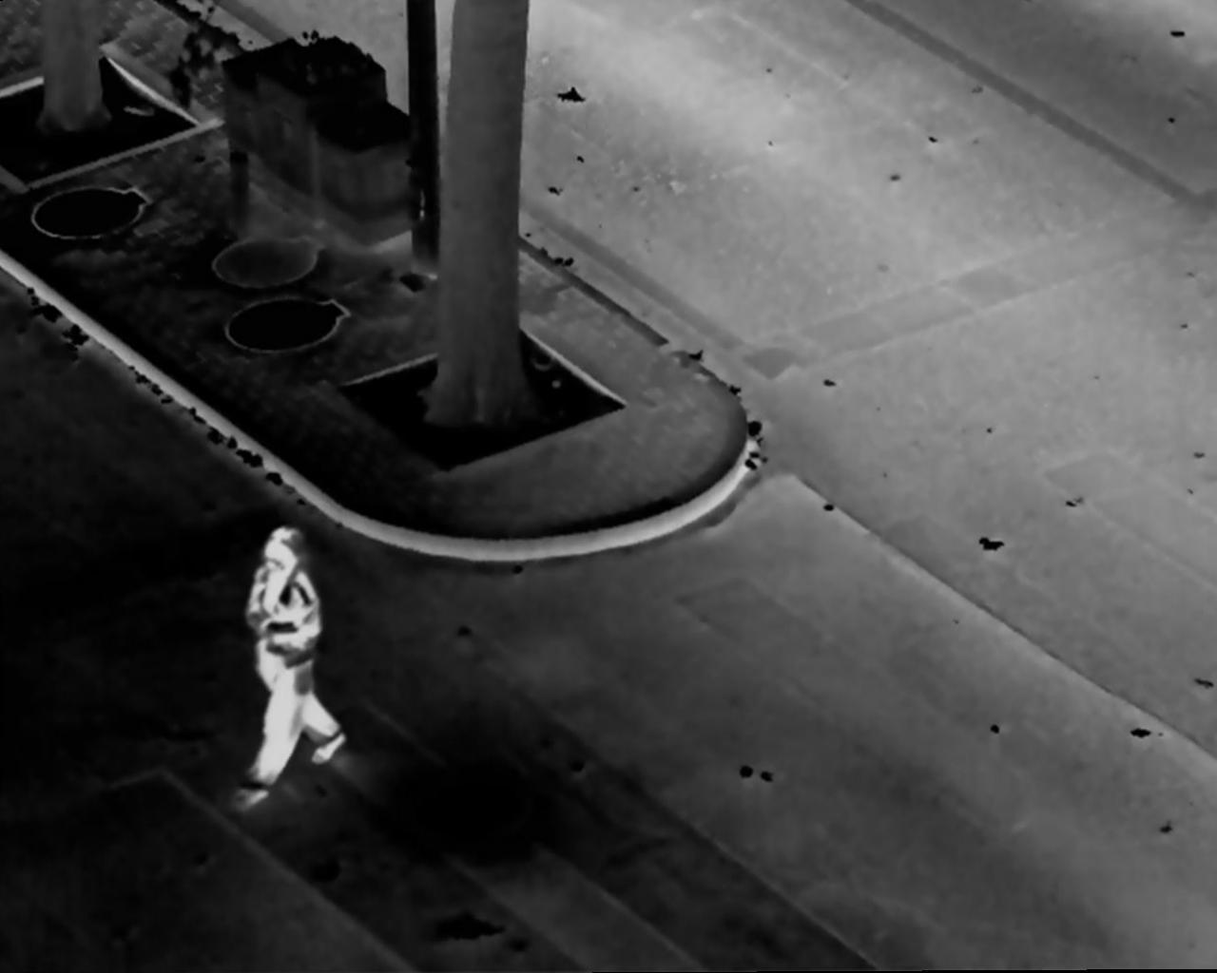person: (230, 524, 353, 814)
